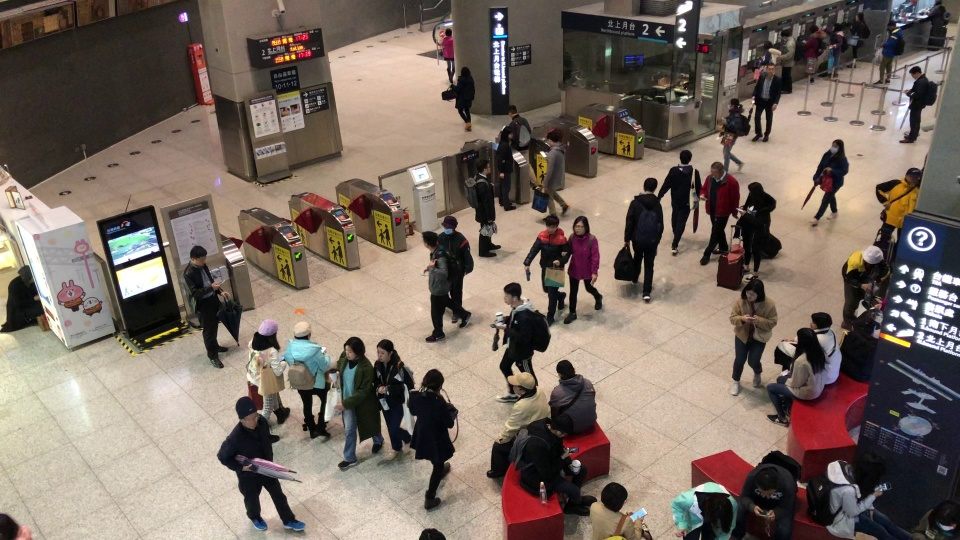person_head: (855, 452, 886, 490), (600, 481, 628, 514), (235, 396, 259, 429), (258, 319, 281, 349), (934, 504, 958, 531), (756, 468, 779, 496), (549, 413, 574, 438), (796, 327, 819, 354), (511, 372, 535, 396), (343, 336, 366, 361), (741, 279, 766, 302), (422, 368, 445, 392), (708, 496, 731, 519), (863, 244, 884, 267), (503, 282, 522, 306), (808, 312, 833, 330), (376, 338, 394, 362), (189, 244, 207, 266), (572, 215, 590, 235), (556, 359, 576, 377), (421, 231, 438, 252), (419, 527, 446, 540), (440, 215, 458, 234), (293, 321, 311, 339), (544, 215, 560, 233), (905, 167, 921, 185), (17, 265, 33, 282), (475, 158, 491, 175), (747, 181, 763, 198), (709, 160, 724, 178), (829, 139, 844, 154), (643, 177, 658, 192), (908, 65, 922, 79), (501, 125, 514, 140), (679, 149, 692, 164), (545, 132, 559, 145), (727, 98, 741, 109), (507, 104, 517, 119), (886, 20, 897, 32), (780, 29, 791, 40), (460, 66, 471, 76), (808, 24, 819, 34), (854, 11, 864, 21), (763, 40, 773, 49), (832, 22, 841, 31), (444, 27, 452, 35)
person_vbox: (214, 396, 305, 532), (805, 451, 912, 540), (507, 413, 597, 517), (328, 336, 384, 471), (485, 371, 551, 479), (493, 282, 551, 402), (729, 449, 802, 540), (766, 327, 830, 426), (407, 368, 451, 511), (180, 244, 230, 369), (728, 278, 779, 397), (420, 230, 472, 344), (284, 320, 332, 439), (246, 319, 290, 444), (372, 338, 416, 463), (522, 215, 568, 329), (623, 177, 664, 301), (657, 149, 702, 254), (781, 311, 842, 387), (731, 181, 776, 283), (562, 215, 603, 325), (698, 161, 741, 265), (874, 167, 921, 262), (839, 244, 890, 331), (437, 215, 474, 328), (669, 481, 738, 540), (463, 159, 502, 258), (548, 360, 598, 437), (589, 482, 652, 540), (809, 139, 849, 225), (502, 103, 537, 190), (0, 265, 44, 334), (899, 65, 937, 144), (539, 131, 570, 224), (715, 97, 751, 174), (872, 20, 905, 85), (909, 500, 959, 540), (776, 29, 807, 93), (495, 125, 518, 211), (448, 66, 475, 130), (802, 24, 829, 86), (821, 22, 849, 79), (845, 11, 871, 68), (439, 26, 455, 83), (755, 40, 781, 70), (923, 0, 950, 26)
